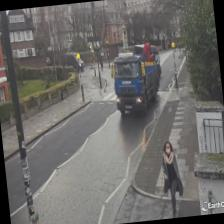person: (159, 139, 185, 218)
